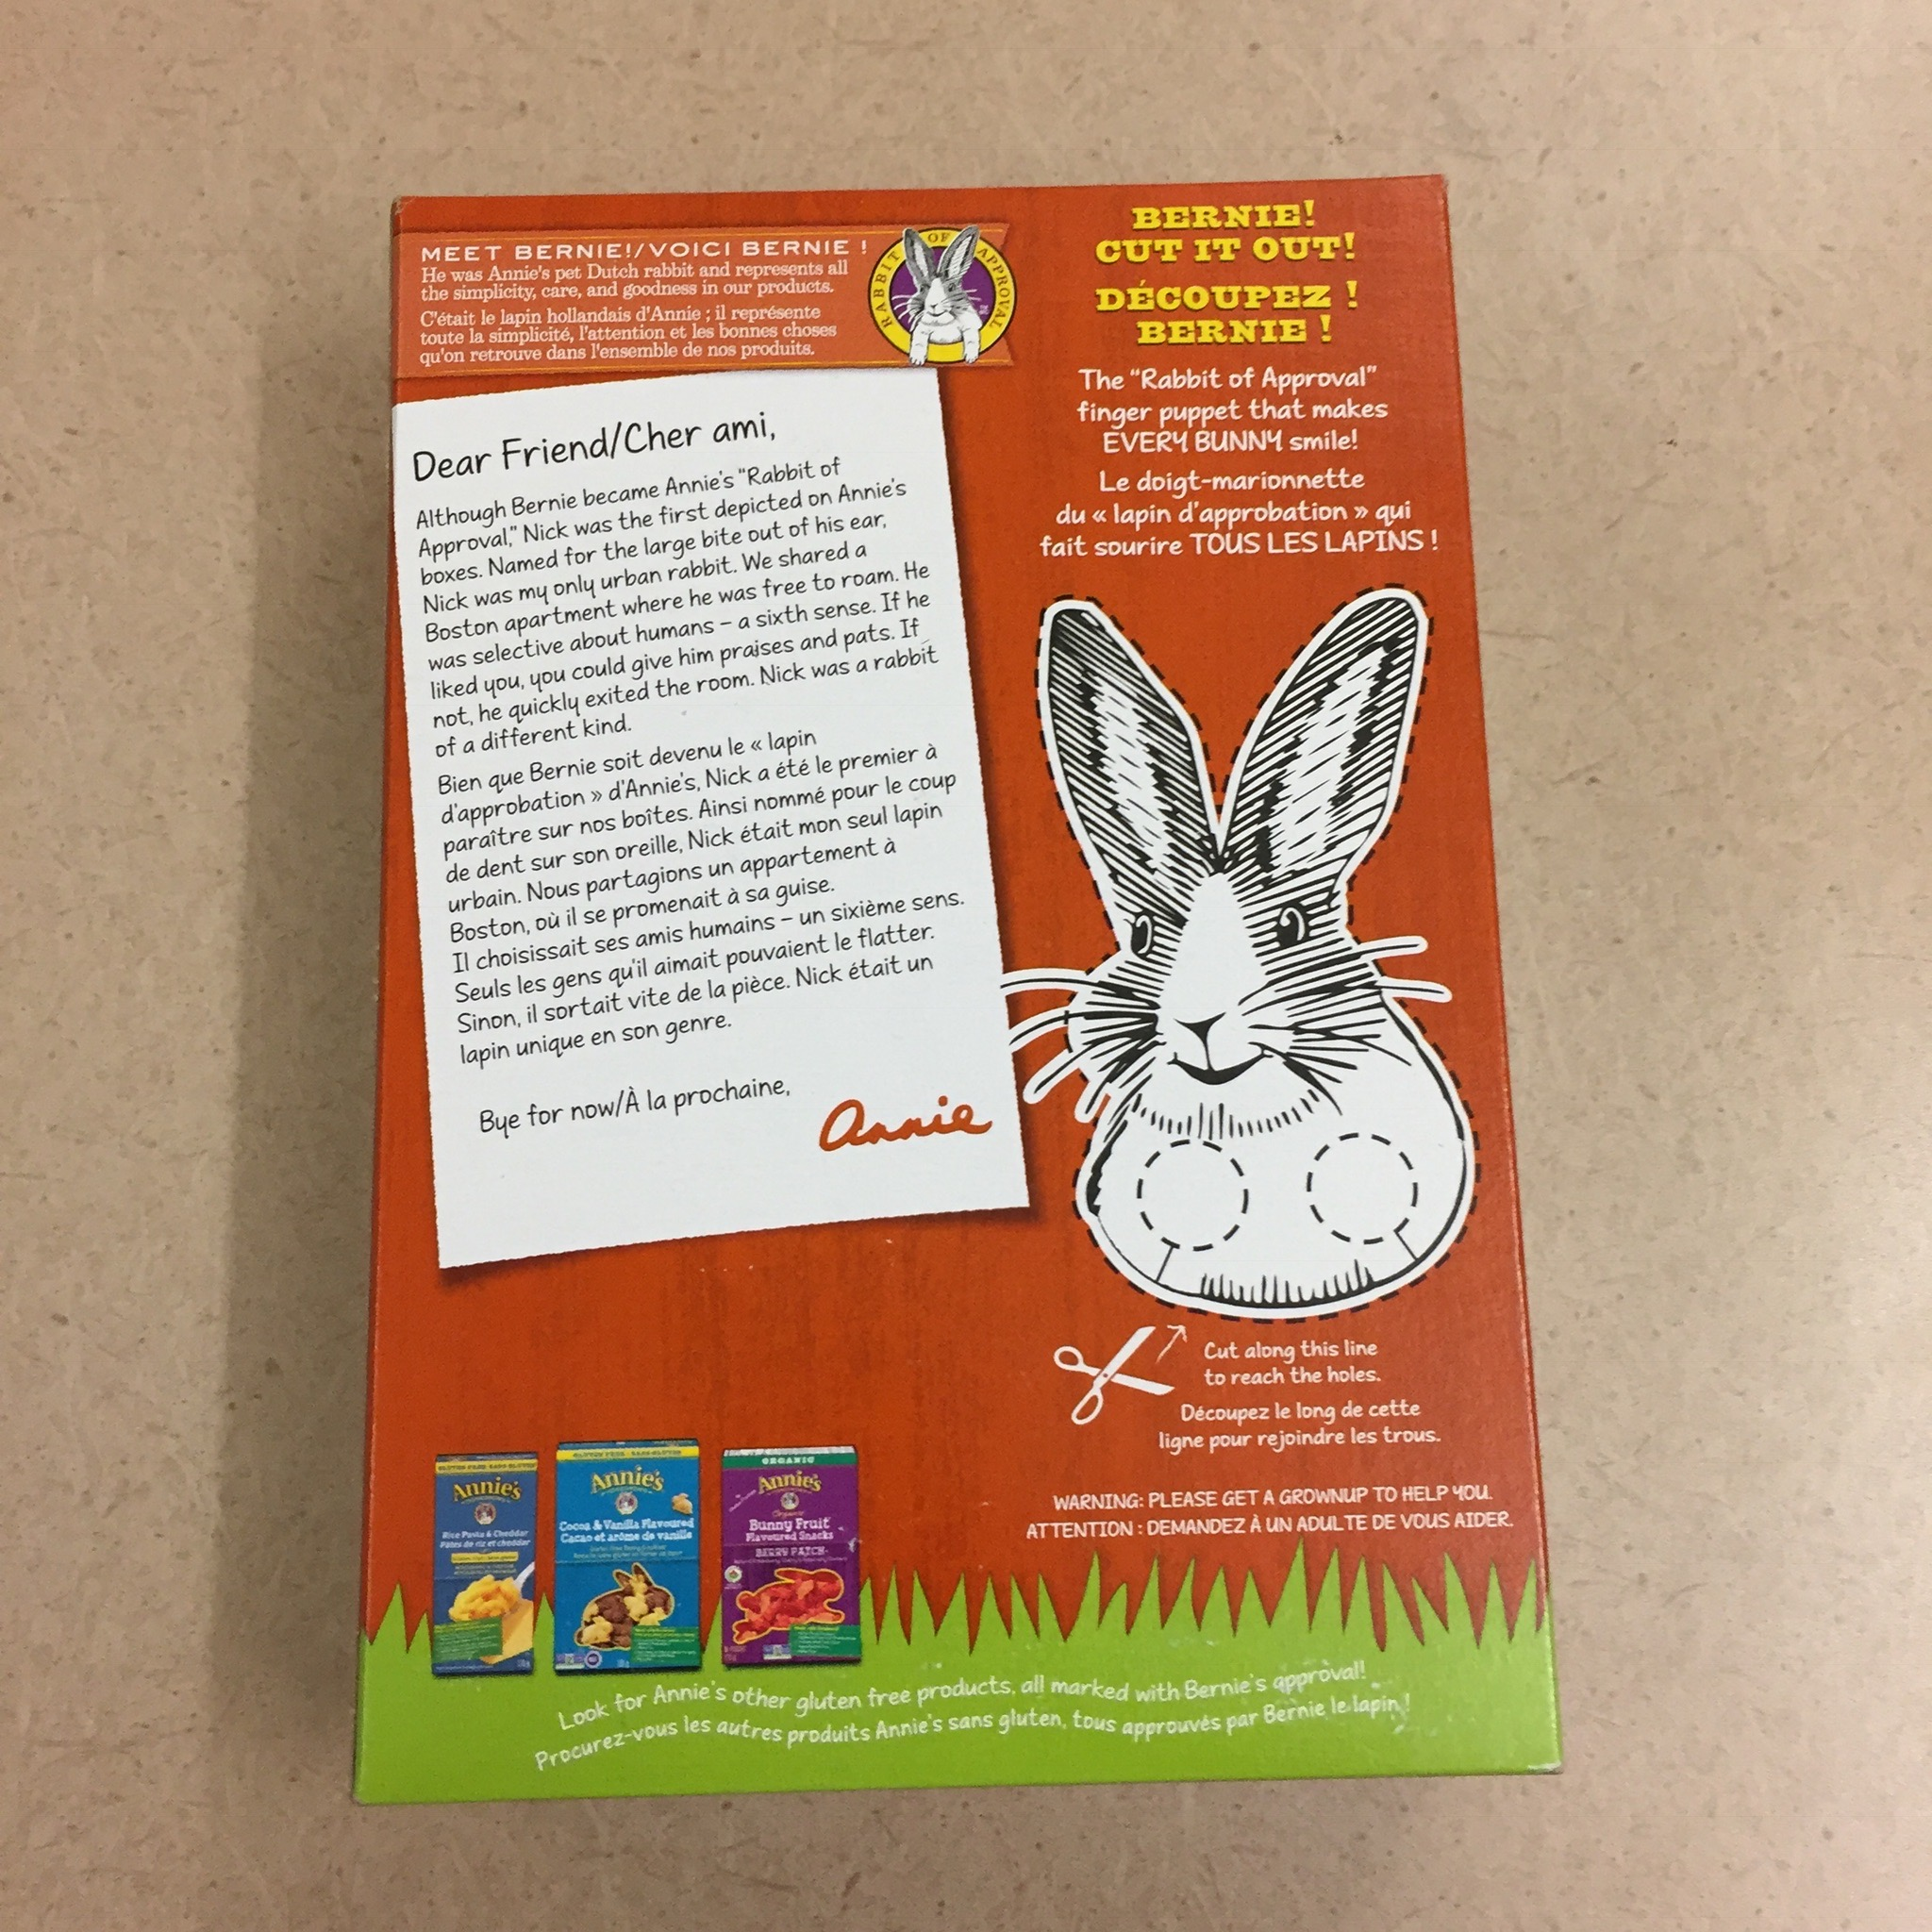annies_snickerdoodle_cinnamon_sugar: (345, 168, 1568, 1810)
